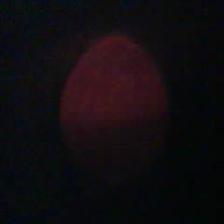fertile: (59, 34, 169, 183)
